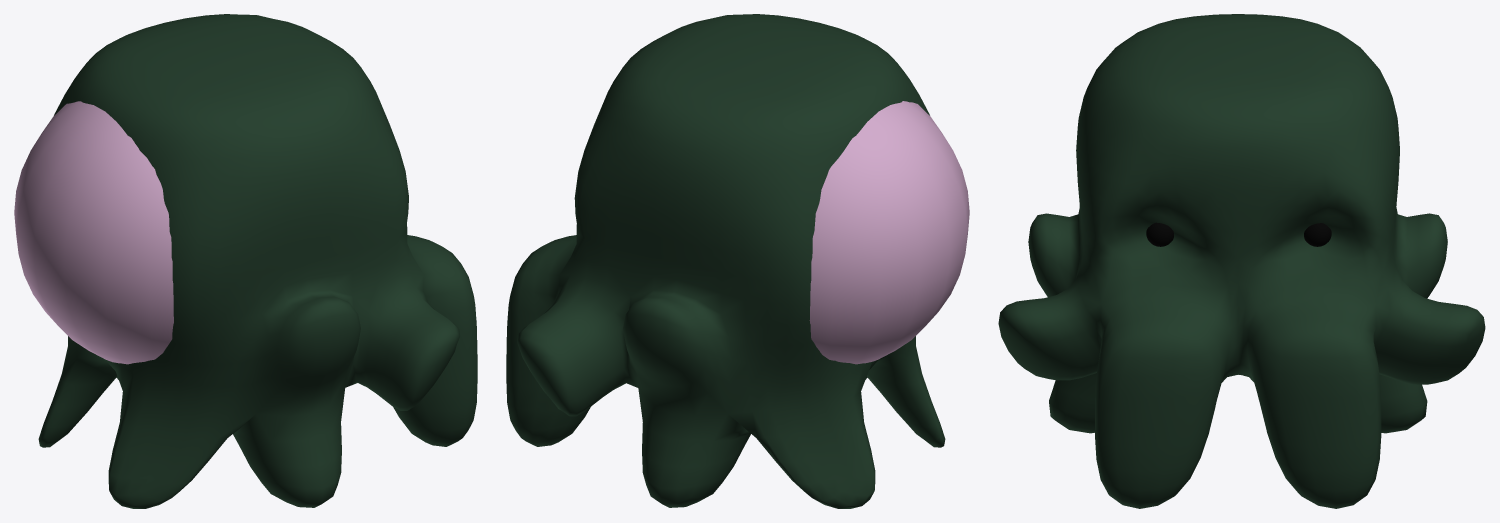
File: StomperEnemy.fbx
3 renders of one model, left to right at view 1: azimuth 30°, elevation 25°; view 2: azimuth 150°, elevation 25°; view 3: azimuth 270°, elevation 25°, orthographic. The views are drawn at different scales.
Parts seen in each view (by area): view 1: pCube1, pSphere1; view 2: pCube1, pSphere1; view 3: pCube1, pSphere2.
Boxes of the visible parts, x1,y1,x2,y2 form: pCube1: (38, 14, 477, 508); pSphere1: (14, 101, 173, 364); pCube1: (506, 14, 945, 508); pSphere1: (809, 101, 969, 364); pCube1: (998, 14, 1485, 508); pSphere2: (1146, 222, 1173, 246).
Bounding box in the file's own units: 1.45 × 1.41 × 1.65.
